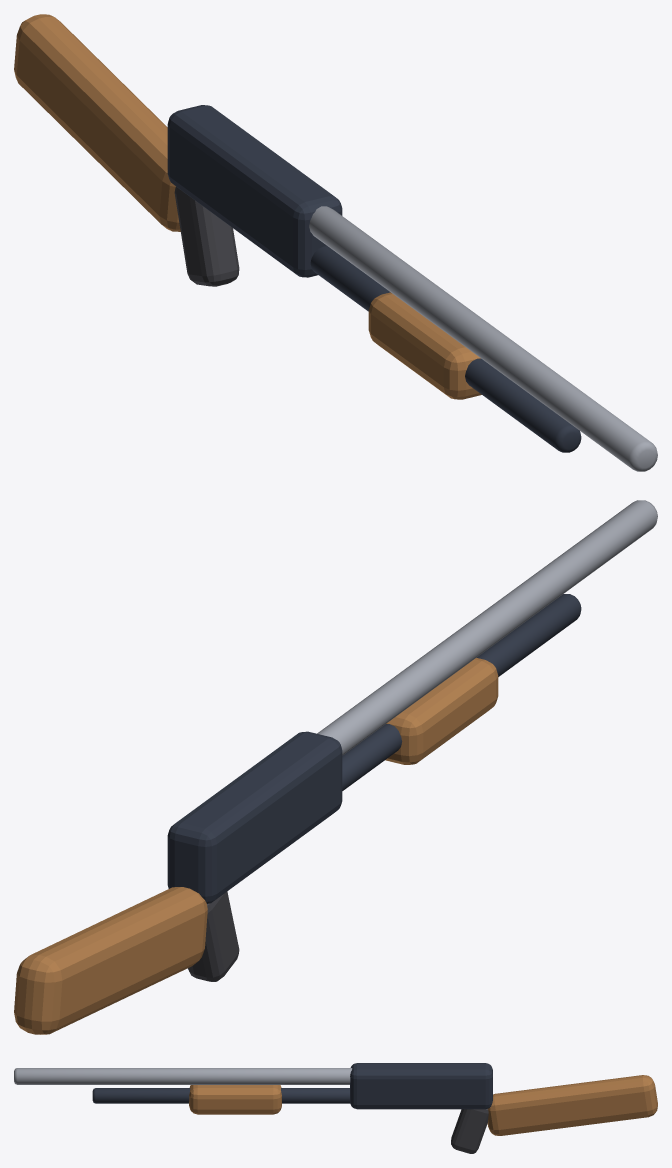
Rendered from shotgun.glb.
The picture shows the model from 3 angles, top to bottom: view 1: azimuth 30°, elevation 25°; view 2: azimuth 150°, elevation 25°; view 3: azimuth 270°, elevation 25°; orthographic projection. The views are drawn at different scales.
Visible parts, largest first — view 1: shotgun; view 2: shotgun; view 3: shotgun.
Boxes of the visible parts, x1,y1,x2,y2 form: shotgun: (14, 14, 657, 471); shotgun: (14, 500, 657, 1034); shotgun: (14, 1063, 657, 1153).
Size of the model in its own units: 0.044 by 0.1314 by 0.9009.
